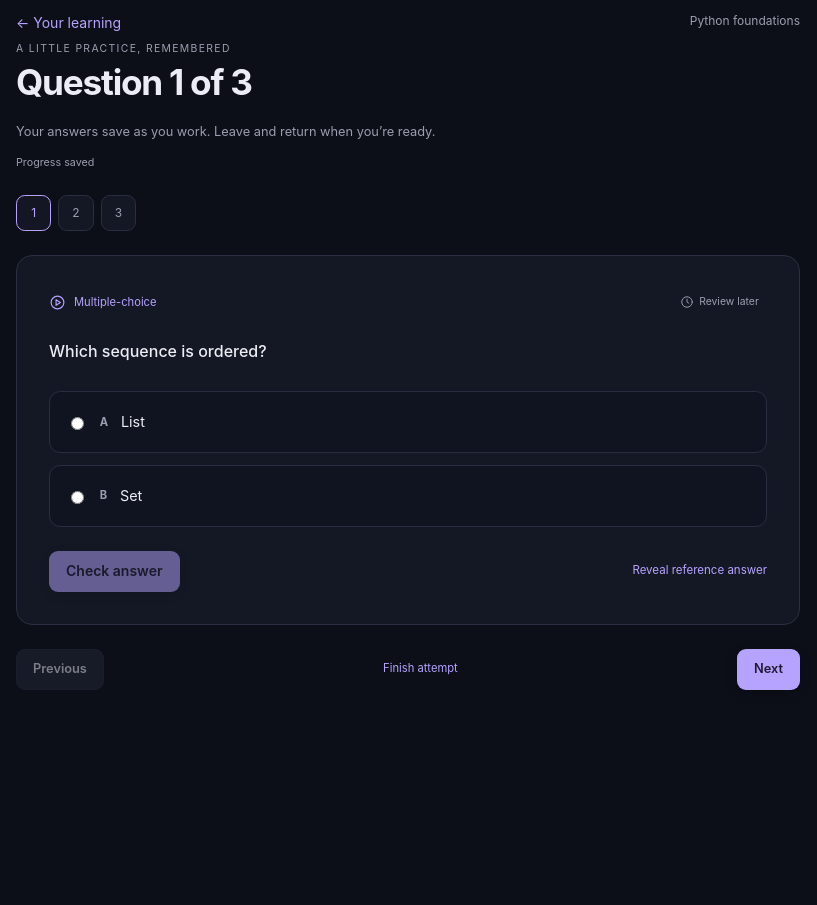
Scenario: Durable quiz experience › saves drafts before submitting, shows server feedback, and persists a completed result
Step 1. Click the radio button labelled "A List" → (78, 424), box [71,417,84,430]
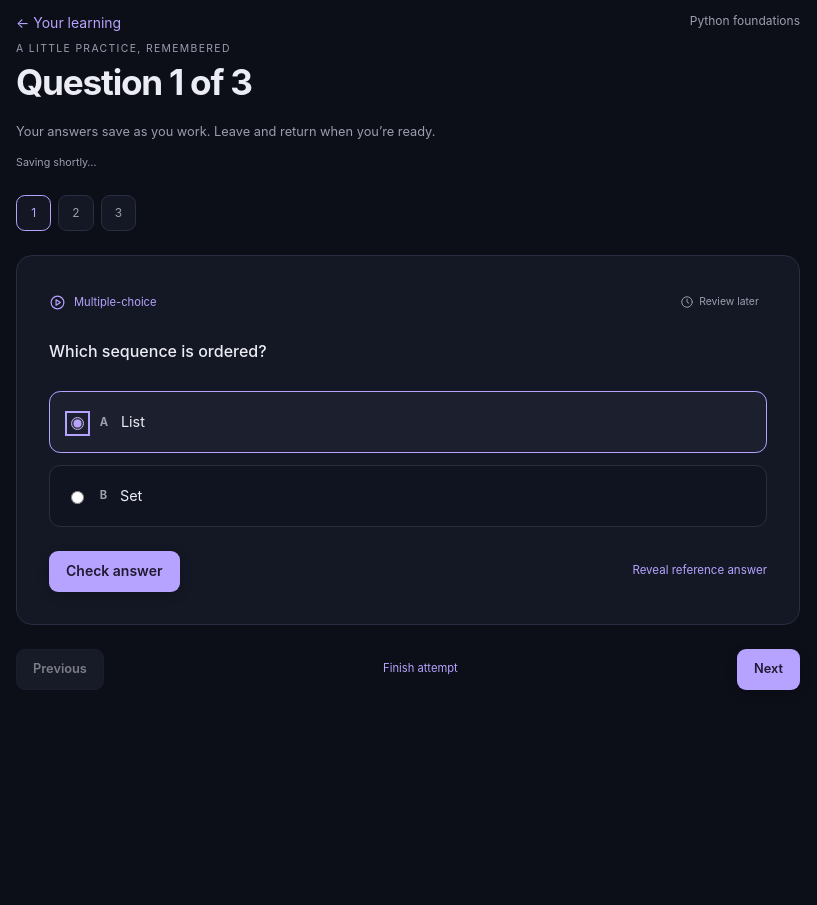
Step 2. Click the button "Check answer" → (114, 571), box [49,551,180,592]
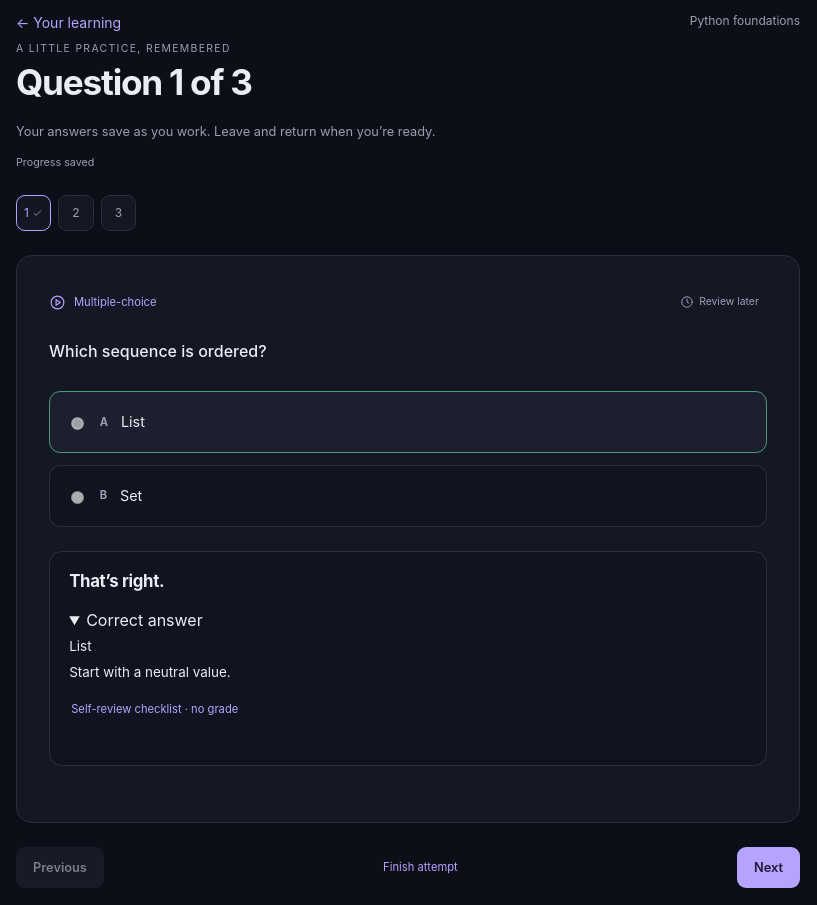
expect the heading "That’s right." is shown: met, box [69,571,164,591]
Step 3. Click the button "Finish attempt" → (420, 867), box [383,854,458,880]
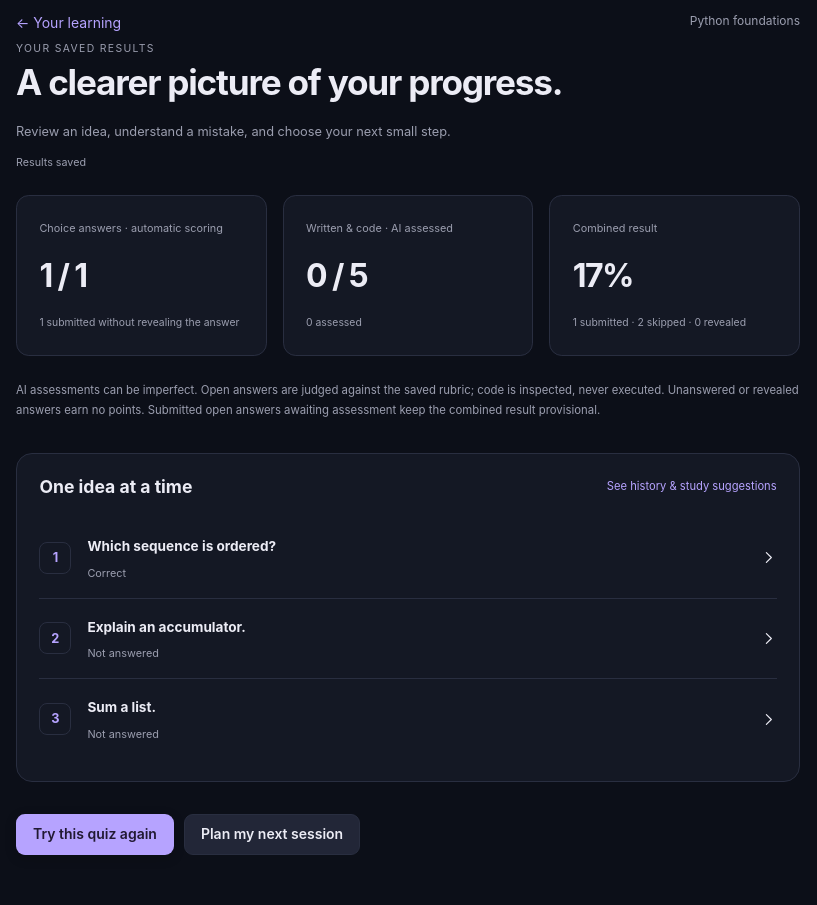
expect the text "17%" is shown: met, box [573,256,633,295]
expect the text "Results saved" is shown: met, box [16,156,86,169]
expect the button "Try this quiz again" is enabled: met, box [16,814,174,855]
